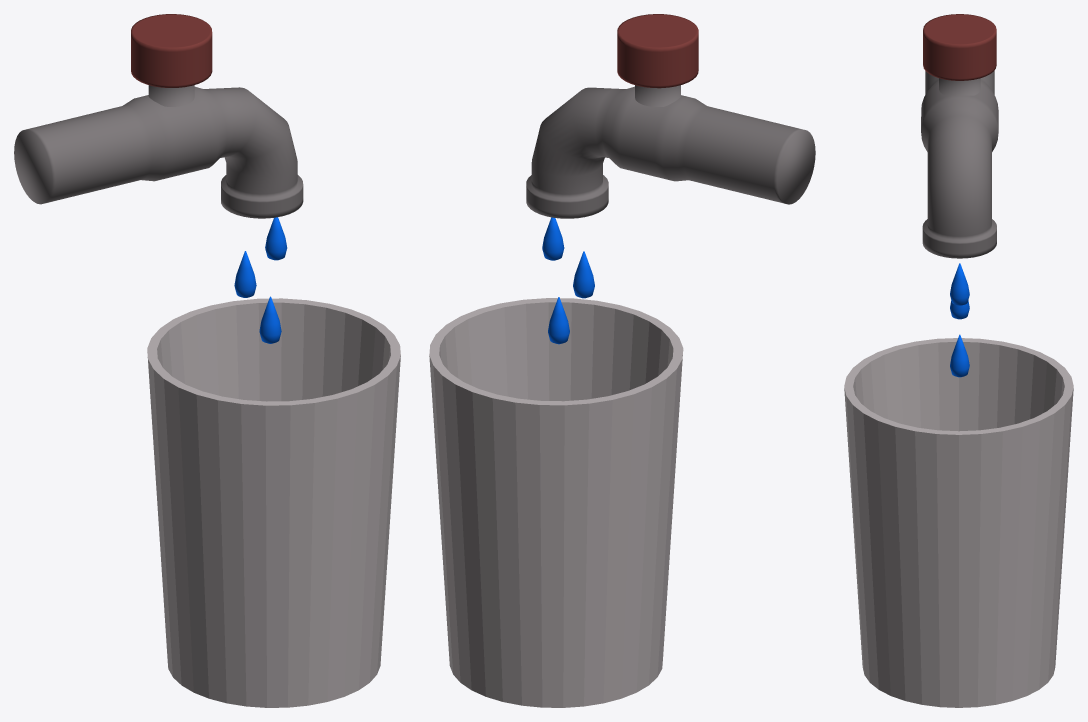
3 views of the same model, side by side, from view 1: azimuth 30°, elevation 25°; view 2: azimuth 150°, elevation 25°; view 3: azimuth 270°, elevation 25° (orthographic). The views are drawn at different scales.
Visible parts, largest first — view 1: Cylinder.014; view 2: Cylinder.014; view 3: Cylinder.014.
Part boxes in pixels (x1,y1,x2,y2): Cylinder.014: (14,14,400,707); Cylinder.014: (429,14,815,707); Cylinder.014: (844,14,1073,707).
Bounding box in the file's own units: 0.2458 × 0.4397 × 0.1544.
Materials: 4 (4 with a texture image).
